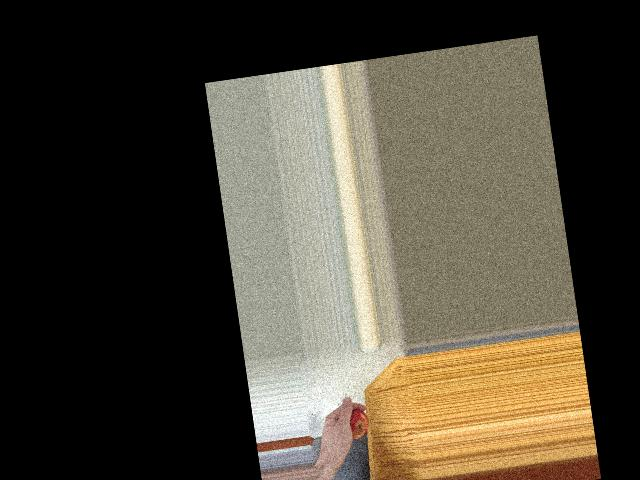apple: (341, 406, 371, 441)
